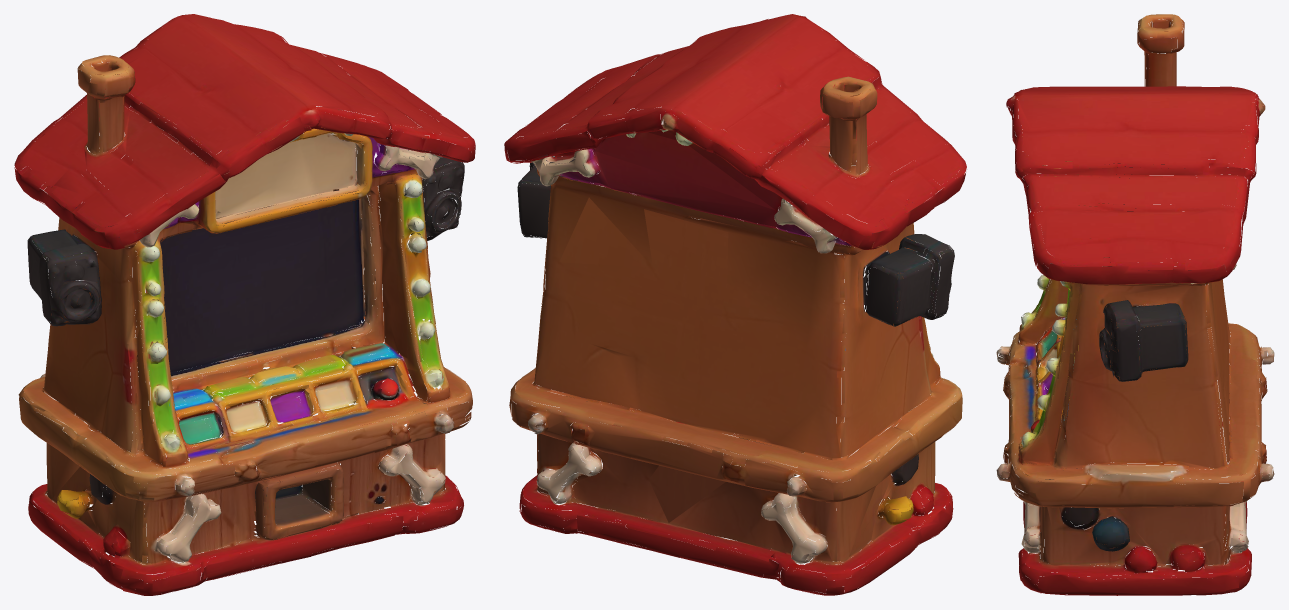
The model's file is g67_pz_slot_cabinet.glb.
3 renders of one model, left to right at view 1: azimuth 30°, elevation 25°; view 2: azimuth 150°, elevation 25°; view 3: azimuth 270°, elevation 25°, orthographic. The views are drawn at different scales.
Parts seen in each view (by area): view 1: tripo_node_b5dc243f; view 2: tripo_node_b5dc243f; view 3: tripo_node_b5dc243f.
Boxes of the visible parts, box(x1,y1,x2,y2) form: tripo_node_b5dc243f: box(14, 14, 475, 595); tripo_node_b5dc243f: box(504, 14, 966, 595); tripo_node_b5dc243f: box(996, 14, 1274, 595).
Size of the model in its own units: 90.47 by 98.06 by 55.97.
Materials: 1 (1 with a texture image).
